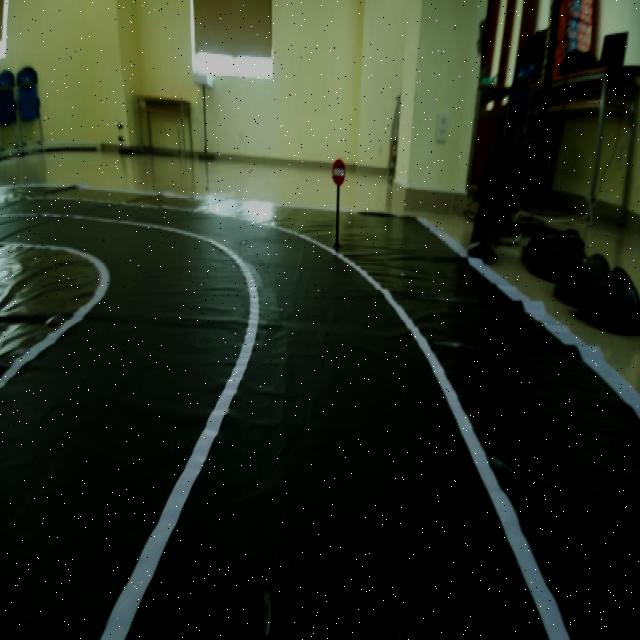no_entry: (320, 146, 354, 191)
